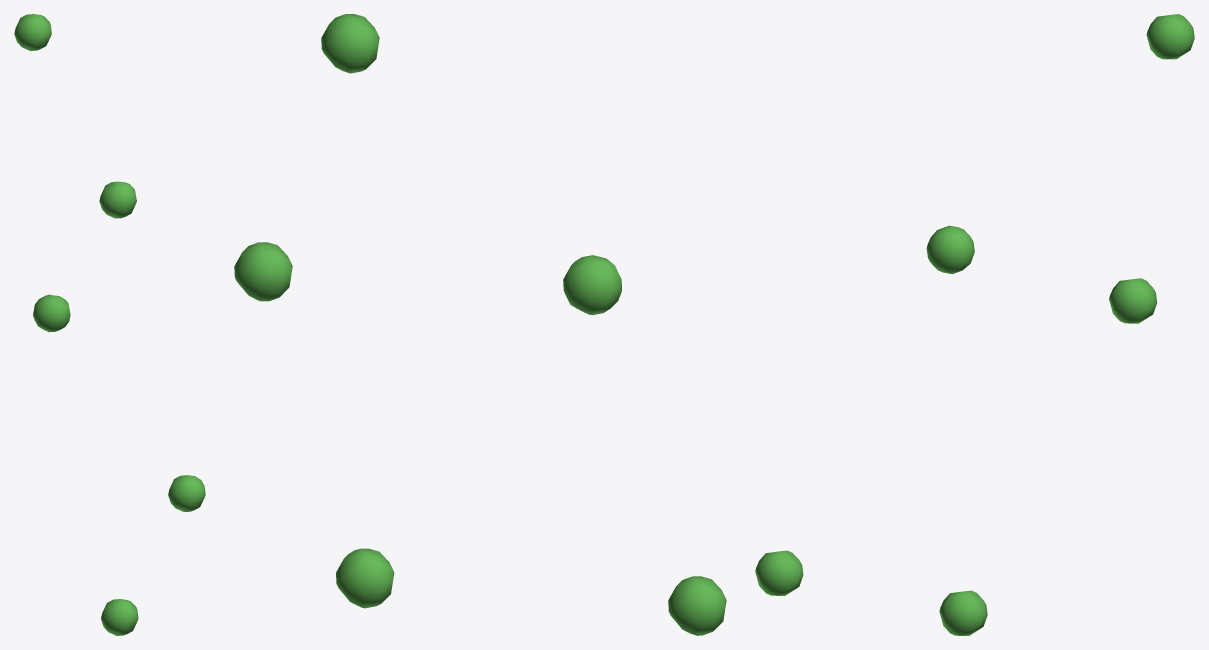
Rendered from linfatico-interpectoral-nodes-l.glb.
The picture shows the model from 3 angles, left to right: view 1: azimuth 30°, elevation 25°; view 2: azimuth 150°, elevation 25°; view 3: azimuth 270°, elevation 25°; orthographic projection. The views are drawn at different scales.
Visible parts, largest first — view 1: Interpectoral nodes.l; view 2: Interpectoral nodes.l; view 3: Interpectoral nodes.l.
Boxes of the visible parts, x1=… form: Interpectoral nodes.l: x1=14, y1=14, x2=205, y2=635; Interpectoral nodes.l: x1=234, y1=14, x2=726, y2=635; Interpectoral nodes.l: x1=755, y1=14, x2=1194, y2=635.
Bounding box in the file's own units: 0.0135 × 0.0365 × 0.0234.
